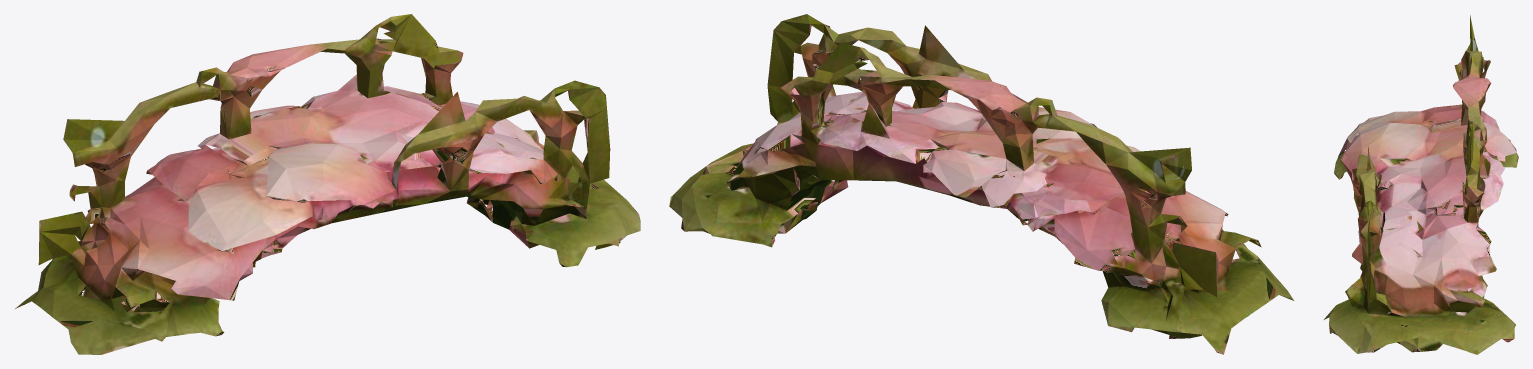
Rendered from fairy_flower_bridge_1117.glb.
The picture shows the model from 3 angles, left to right: view 1: azimuth 30°, elevation 25°; view 2: azimuth 150°, elevation 25°; view 3: azimuth 270°, elevation 25°; orthographic projection. The views are drawn at different scales.
Parts seen in each view (by area): view 1: geometry_0; view 2: geometry_0; view 3: geometry_0.
Boxes of the visible parts, x1,y1,x2,y2 form: geometry_0: (15, 14, 640, 354); geometry_0: (669, 14, 1293, 354); geometry_0: (1324, 15, 1518, 354).
Size of the model in its own units: 2.82 by 1 by 1.07.
Materials: 1 (1 with a texture image).
